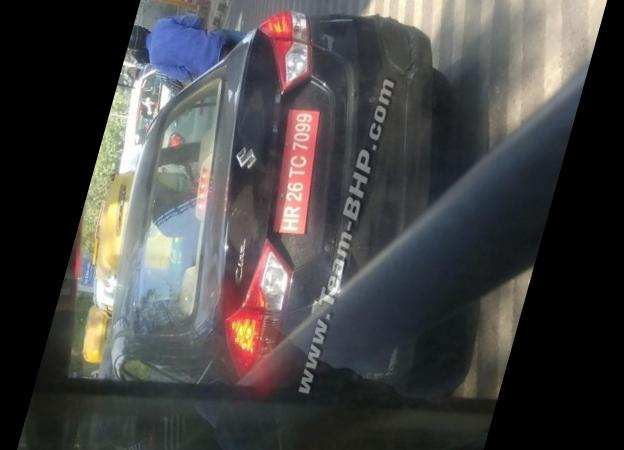plate: (258, 95, 340, 251)
